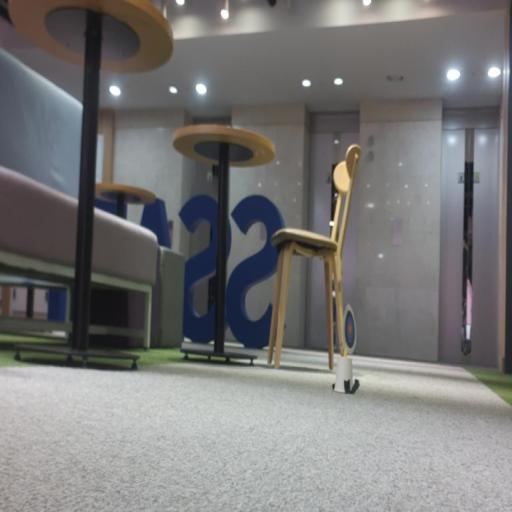target: (344, 304, 356, 353)
